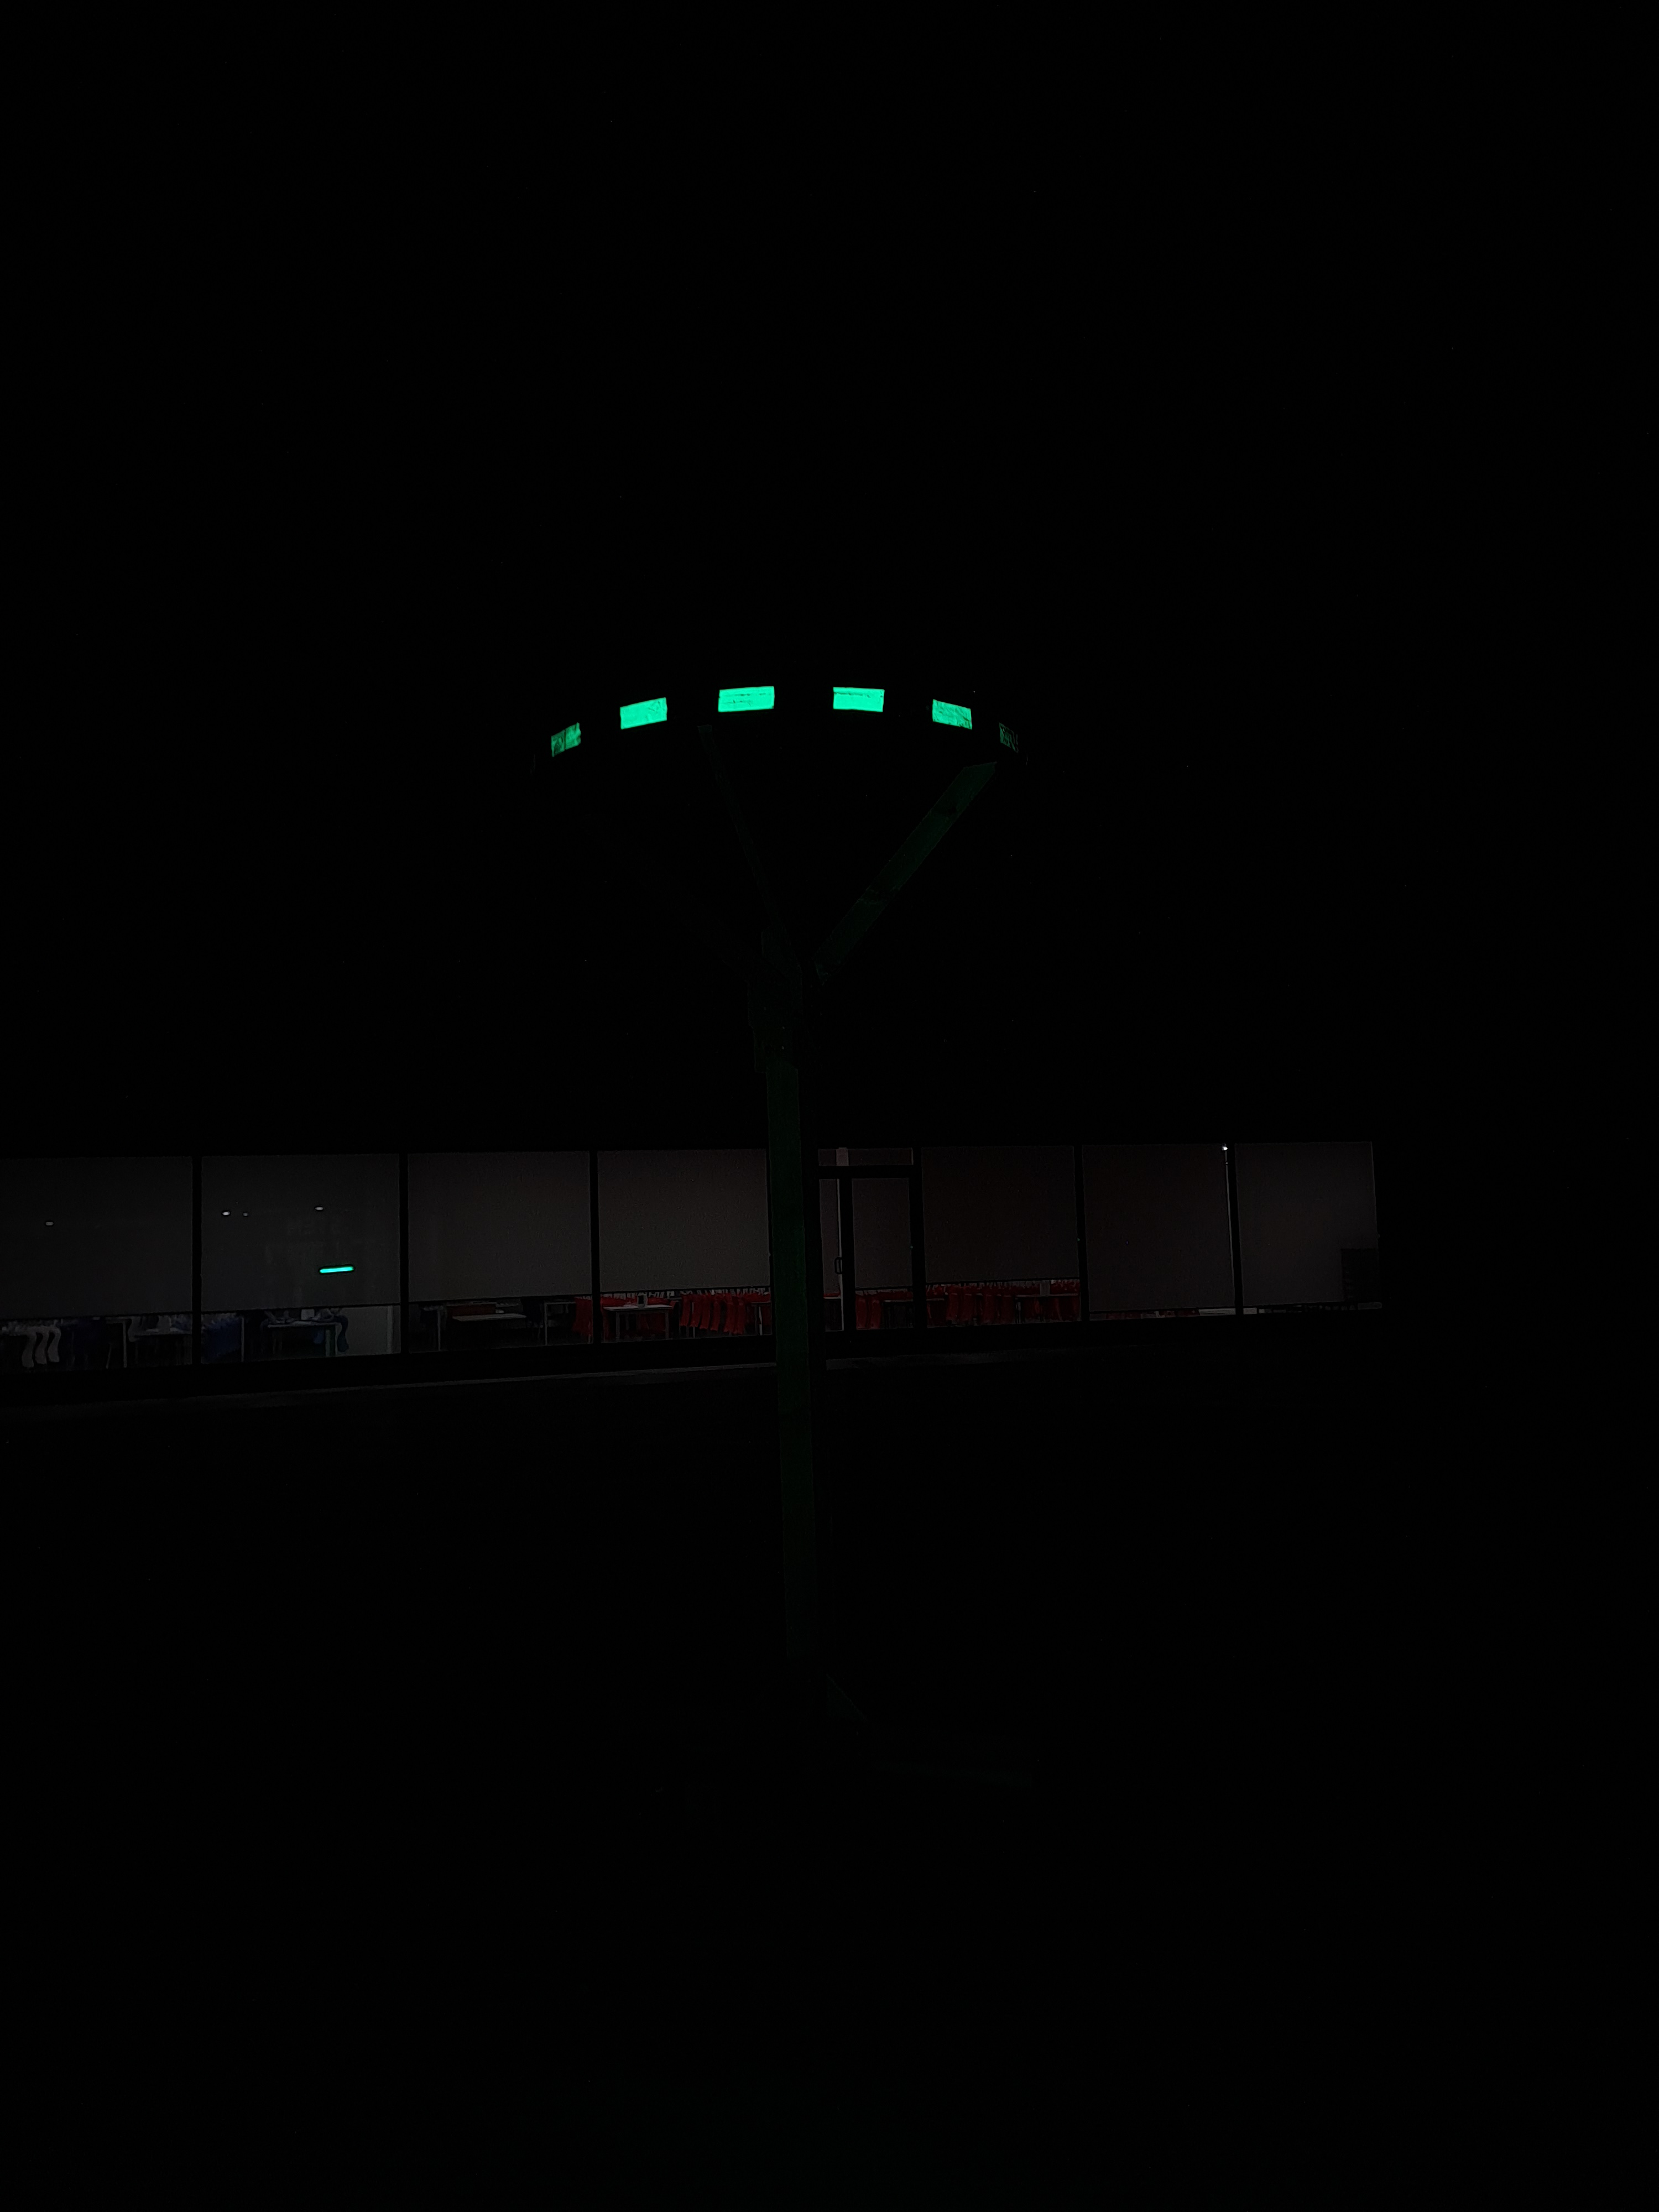hoop: (537, 683, 981, 759)
